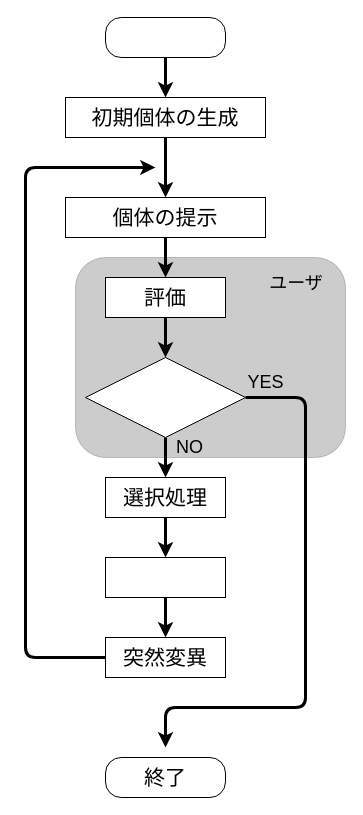
Image size: 363x815. Some labels were removed from this diagram. Here are the shapes that lost their labels. From the top down, the centre of each, then its label:
At pixel 165 37: "開始".
At pixel 165 397: "終了条件".
At pixel 165 577: "交叉処理".
